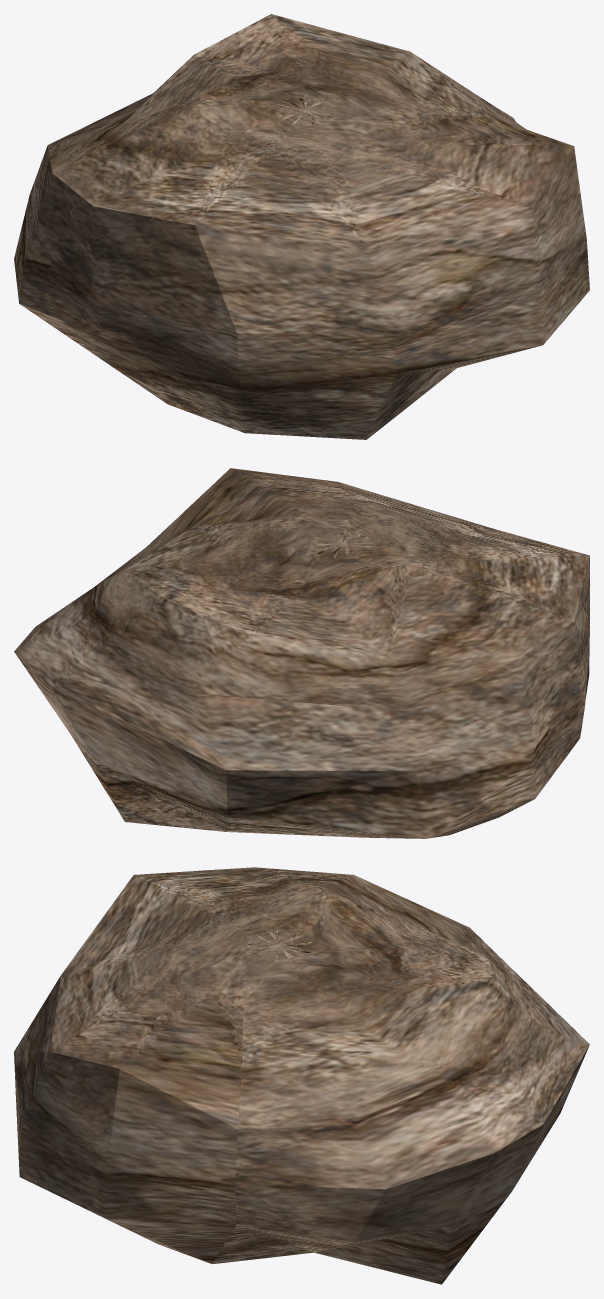
Rendered from RockSmallFlat_LOD2.obj.
The picture shows the model from 3 angles, top to bottom: view 1: azimuth 30°, elevation 25°; view 2: azimuth 150°, elevation 25°; view 3: azimuth 270°, elevation 25°; orthographic projection. The views are drawn at different scales.
Parts seen in each view (by area): view 1: RockSmallFlat_LOD2; view 2: RockSmallFlat_LOD2; view 3: RockSmallFlat_LOD2.
Part boxes in pixels (x1,y1,x2,y2): RockSmallFlat_LOD2: (14,14,589,439); RockSmallFlat_LOD2: (14,468,589,838); RockSmallFlat_LOD2: (14,867,589,1284).
Size of the model in its own units: 1.62 by 0.8428 by 1.57.
